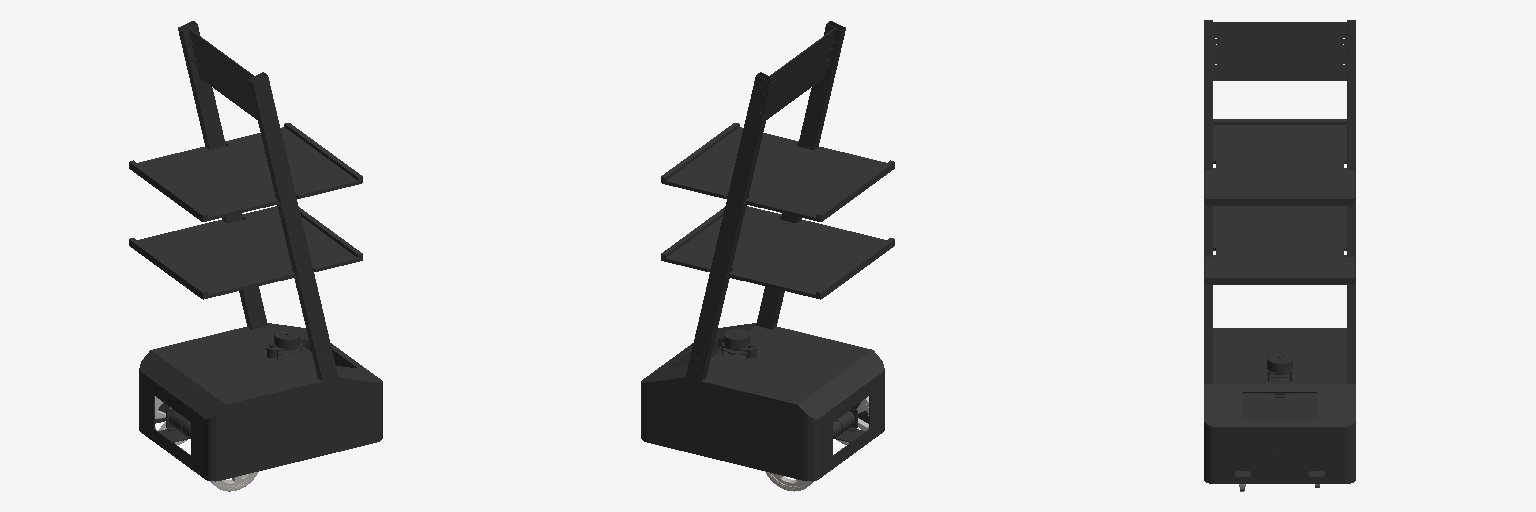
The robot description file, URDF, robot "agv20":
<?xml version="1.0" encoding="utf-8"?>
<!-- This URDF was automatically created by SolidWorks to URDF Exporter! Originally created by [author] ([email redacted]) 
     Commit Version: 1.6.0-4-g7f85cfe  Build Version: 1.6.7995.38578
     For more information, please see http://wiki.ros.org/sw_urdf_exporter -->

<robot

  name="agv20">

  <link 
    name = "world">
  </link>
  
    <joint
      name = "fixed"
      type = "fixed">
      <origin
        xyz="0 0 -0.3"
        rpy="0 0 0"/>
      <parent link = "base_link"/>
      <child link= "world"/>
    </joint>
  

  <link
    name="base_link">
    <inertial>
      <origin
        xyz="-0.031044 0.0010149 0.31459"
        rpy="0 0 0" />
      <mass
        value="9.8608" />
      <inertia
        ixx="0.15321"
        ixy="-1.3195E-06"
        ixz="0.010431"
        iyy="0.19934"
        iyz="2.997E-06"
        izz="0.25801" />
    </inertial>
    <visual>
      <origin
        xyz="0 0 0"
        rpy="0 0 0" />
      <geometry>
        <mesh
          filename="package://agv20/meshes/base_link.STL" />
      </geometry>
      <material
        name="">
        <color
          rgba="0.25098 0.25098 0.25098 1" />
      </material>
    </visual>
    <collision>
      <origin
        xyz="0 0 0"
        rpy="0 0 0" />
      <geometry>
        <mesh
          filename="package://agv20/meshes/base_link.STL" />
      </geometry>
    </collision>
  </link>
  <link
    name="left_wheel">
    <inertial>
      <origin
        xyz="-2.2354E-06 9.754E-06 -0.0095"
        rpy="0 0 0" />
      <mass
        value="2.5857" />
      <inertia
        ixx="0.0060319"
        ixy="-2.9205E-07"
        ixz="1.2931E-11"
        iyy="0.0060331"
        iyz="-3.4505E-11"
        izz="0.011856" />
    </inertial>
    <visual>
      <origin
        xyz="0 0 0"
        rpy="0 0 0" />
      <geometry>
        <mesh
          filename="package://agv20/meshes/left_wheel.STL" />
      </geometry>
      <material
        name="">
        <color
          rgba="0.77647 0.75686 0.73725 1" />
      </material>
    </visual>
    <collision>
      <origin
        xyz="0 0 0"
        rpy="0 0 0" />
      <geometry>
        <mesh
          filename="package://agv20/meshes/left_wheel.STL" />
      </geometry>
    </collision>
  </link>
  <joint
    name="joint_left"
    type="continuous">
    <origin
      xyz="-0.1805 0.175 -0.192"
      rpy="-1.5708 0 0" />
    <parent
      link="base_link" />
    <child
      link="left_wheel" />
    <axis
      xyz="0 0 -1" />
  </joint>
  <link
    name="right_wheel">
    <inertial>
      <origin
        xyz="5.6522E-06 8.2577E-06 0.0095"
        rpy="0 0 0" />
      <mass
        value="2.5857" />
      <inertia
        ixx="0.0060322"
        ixy="6.2762E-07"
        ixz="-1.6588E-11"
        iyy="0.0060327"
        iyz="-3.2903E-11"
        izz="0.011856" />
    </inertial>
    <visual>
      <origin
        xyz="0 0 0"
        rpy="0 0 0" />
      <geometry>
        <mesh
          filename="package://agv20/meshes/right_wheel.STL" />
      </geometry>
      <material
        name="">
        <color
          rgba="0.77647 0.75686 0.73725 1" />
      </material>
    </visual>
    <collision>
      <origin
        xyz="0 0 0"
        rpy="0 0 0" />
      <geometry>
        <mesh
          filename="package://agv20/meshes/right_wheel.STL" />
      </geometry>
    </collision>
  </link>
  <joint
    name="joint_wheel"
    type="continuous">
    <origin
      xyz="-0.180500000000001 -0.172999999999998 -0.191999999999999"
      rpy="-1.5707963267949 0 0" />
    <parent
      link="base_link" />
    <child
      link="right_wheel" />
    <axis
      xyz="0 0 -1" />
  </joint>
  <link
    name="huong_trai">
    <inertial>
      <origin
        xyz="-0.0027511 7.5886E-06 -0.01229"
        rpy="0 0 0" />
      <mass
        value="0.0016393" />
      <inertia
        ixx="1.6895E-07"
        ixy="-4.2673E-11"
        ixz="-3.4979E-08"
        iyy="1.5352E-07"
        iyz="9.6402E-11"
        izz="1.8164E-07" />
    </inertial>
    <visual>
      <origin
        xyz="0 0 0"
        rpy="0 0 0" />
      <geometry>
        <mesh
          filename="package://agv20/meshes/huong_trai.STL" />
      </geometry>
      <material
        name="">
        <color
          rgba="0.68627 0.68627 0.68627 1" />
      </material>
    </visual>
    <collision>
      <origin
        xyz="0 0 0"
        rpy="0 0 0" />
      <geometry>
        <mesh
          filename="package://agv20/meshes/huong_trai.STL" />
      </geometry>
    </collision>
  </link>
  <joint
    name="joint_huong_trai"
    type="continuous">
    <origin
      xyz="0.21687 0.101 -0.222"
      rpy="0 0 0" />
    <parent
      link="base_link" />
    <child
      link="huong_trai" />
    <axis
      xyz="0 0 1" />
  </joint>
  <link
    name="front_trai">
    <inertial>
      <origin
        xyz="2.7718E-12 2.0356E-13 -0.0085"
        rpy="0 0 0" />
      <mass
        value="0.011363" />
      <inertia
        ixx="9.0633E-07"
        ixy="1.8015E-23"
        ixz="-1.34E-22"
        iyy="9.0633E-07"
        iyz="3.9884E-22"
        izz="1.432E-06" />
    </inertial>
    <visual>
      <origin
        xyz="0 0 0"
        rpy="0 0 0" />
      <geometry>
        <mesh
          filename="package://agv20/meshes/front_trai.STL" />
      </geometry>
      <material
        name="">
        <color
          rgba="0.49804 0.49804 0.49804 1" />
      </material>
    </visual>
    <collision>
      <origin
        xyz="0 0 0"
        rpy="0 0 0" />
      <geometry>
        <mesh
          filename="package://agv20/meshes/front_trai.STL" />
      </geometry>
    </collision>
  </link>
  <joint
    name="joitn_fron"
    type="continuous">
    <origin
      xyz="-0.010023 -0.0084724 -0.026"
      rpy="1.5708 0 -0.0027583" />
    <parent
      link="huong_trai" />
    <child
      link="front_trai" />
    <axis
      xyz="0 0 1" />
  </joint>
  <link
    name="huong_phai">
    <inertial>
      <origin
        xyz="0.002751 3.123E-05 -0.01229"
        rpy="0 0 0" />
      <mass
        value="0.0016393" />
      <inertia
        ixx="1.6895E-07"
        ixy="1.7501E-10"
        ixz="3.4977E-08"
        iyy="1.5352E-07"
        iyz="3.9715E-10"
        izz="1.8164E-07" />
    </inertial>
    <visual>
      <origin
        xyz="0 0 0"
        rpy="0 0 0" />
      <geometry>
        <mesh
          filename="package://agv20/meshes/huong_phai.STL" />
      </geometry>
      <material
        name="">
        <color
          rgba="0.68627 0.68627 0.68627 1" />
      </material>
    </visual>
    <collision>
      <origin
        xyz="0 0 0"
        rpy="0 0 0" />
      <geometry>
        <mesh
          filename="package://agv20/meshes/huong_phai.STL" />
      </geometry>
    </collision>
  </link>
  <joint
    name="joint_huong_phai"
    type="continuous">
    <origin
      xyz="0.21687 -0.099 -0.222"
      rpy="0 0 0" />
    <parent
      link="base_link" />
    <child
      link="huong_phai" />
    <axis
      xyz="0 0 1" />
  </joint>
  <link
    name="front_phai">
    <inertial>
      <origin
        xyz="-2.7756E-17 -2.7756E-17 -0.0085"
        rpy="0 0 0" />
      <mass
        value="0.011363" />
      <inertia
        ixx="9.0633E-07"
        ixy="3.1073E-23"
        ixz="1.5137E-22"
        iyy="9.0633E-07"
        iyz="1.5523E-22"
        izz="1.432E-06" />
    </inertial>
    <visual>
      <origin
        xyz="0 0 0"
        rpy="0 0 0" />
      <geometry>
        <mesh
          filename="package://agv20/meshes/front_phai.STL" />
      </geometry>
      <material
        name="">
        <color
          rgba="0.49804 0.49804 0.49804 1" />
      </material>
    </visual>
    <collision>
      <origin
        xyz="0 0 0"
        rpy="0 0 0" />
      <geometry>
        <mesh
          filename="package://agv20/meshes/front_phai.STL" />
      </geometry>
    </collision>
  </link>
  <joint
    name="joint_phai"
    type="continuous">
    <origin
      xyz="0.0099029 0.008613 -0.026"
      rpy="1.5708 0 -3.1302" />
    <parent
      link="huong_phai" />
    <child
      link="front_phai" />
    <axis
      xyz="0 0 1" />
  </joint>
  <!-- lidar scan-->
    <joint name="hokuyo_joint" type="fixed">
    <axis xyz="0 1 0" />
    <origin xyz="0.08 0 0.095" rpy="0 0 0"/>
    <parent link="base_link"/>
    <child link="hokuyo_link"/>
  </joint>

  <!-- Hokuyo Laser -->
  <link name="hokuyo_link">
    <collision>
      <origin xyz="0 0 0" rpy="0 0 0"/>
      <geometry>
    <box size="0.1 0.1 0.1"/>
      </geometry>
    </collision>

    <visual>
      <origin xyz="0 0 0" rpy="0 0 0"/>
      <geometry>
        <mesh filename="package://rrbot_description/meshes/hokuyo.dae"/>
      </geometry>
    </visual>

    <inertial>
      <mass value="1e-5" />
      <origin xyz="0 0 0" rpy="0 0 0"/>
      <inertia ixx="1e-6" ixy="0" ixz="0" iyy="1e-6" iyz="0" izz="1e-6" />
    </inertial>
  </link>

<!-- hokuyo -->
  <gazebo reference="hokuyo_link">
    <sensor type="ray" name="head_hokuyo_sensor">
      <pose>0.01 0 0.03 0 -0 0</pose>
      <visualize>true</visualize>
      <update_rate>40</update_rate>
      <ray>
        <scan>
          <horizontal>
            <samples>640</samples>
            <resolution>1</resolution>
            <min_angle>-3.141592</min_angle>
            <max_angle>3.141592</max_angle>
          </horizontal>
        </scan>
        <range>
          <min>0.3</min>
          <max>12.0</max>
          <resolution>0.01</resolution>
        </range>
        <noise>
          <type>gaussian</type>
          <!--Noise parameters based on published spec for Hokuyo laser
               achieving "+-30mm" accuracy at range < 10m.  A mean of 0.0m and
               stddev of 0.01m will put 99.7% of samples within 0.03m of the true
               reading. --> 
          <mean>0.0</mean>
          <stddev>0.01</stddev>
        </noise>
      </ray>
      <plugin name="gazebo_ros_head_hokuyo_controller" filename="libgazebo_ros_laser.so">
         <always_on>1</always_on>
        <update_rate>30</update_rate>
        <visualize>true</visualize>
        <topicName>/scan</topicName>
        <frameName>hokuyo_link</frameName>
      </plugin>
    </sensor>
  </gazebo> 

  <!--diff  driver plugin -->
  <gazebo>
      <plugin name="gazebo_ros_control" filename="libgazebo_ros_control.so">
        <robotNamespace>/</robotNamespace>
        <controlPeriod>0.001</controlPeriod>
        <legacyModeNS>false</legacyModeNS>
      </plugin>
    </gazebo>
  <!--######################################################################-->
  <gazebo>
      <plugin name="diff_drive_controller" filename="libgazebo_ros_diff_drive.so">
        <legacyMode>false</legacyMode>
        <alwaysOn>true</alwaysOn>
        <updateRate>1000.0</updateRate>
        <leftJoint>left_wheel</leftJoint>
        <rightJoint>joint_wheel</rightJoint>
        <wheelSeparation>0.5</wheelSeparation>
        <wheelDiameter>0.2</wheelDiameter>
        <wheelTorque>10</wheelTorque>
        <publishTf>1</publishTf>
        <odometryFrame>map</odometryFrame>
        <commandTopic>cmd_vel</commandTopic>
        <odometryTopic>odom</odometryTopic>
        <robotBaseFrame>base_link</robotBaseFrame>
        <wheelAcceleration>2.8</wheelAcceleration>
        <publishWheelJointState>true</publishWheelJointState>
        <publishWheelTF>false</publishWheelTF>
        <odometrySource>world</odometrySource>
        <rosDebugLevel>Debug</rosDebugLevel>
      </plugin>
  </gazebo>
  <!--######################################################################-->
  <gazebo reference="right_wheel">
  <mu1 value="1.0"/>
  <mu2 value="1.0"/>
  <kp value="10000000.0" />
  <kd value="1.0" />
  <fdir1 value="1 0 0"/>
  </gazebo>

  <gazebo reference="left_wheel">
  <mu1 value="1.0"/>
  <mu2 value="1.0"/>
  <kp value="10000000.0" />
  <kd value="1.0" />
  <fdir1 value="1 0 0"/>
  </gazebo>
  <!--######################################################################-->
  <transmission name="left_wheel_trans" type="SimpleTransmission">
    <type>transmission_interface/SimpleTransmission</type>
    <actuator name="left_wheel_motor">
    <hardwareInterface>hardware_interface/VelocityJointInterface</hardwareInterface>
    <mechanicalReduction>1</mechanicalReduction>
    </actuator>
    <joint name="joint_left">
    <hardwareInterface>hardware_interface/VelocityJointInterface</hardwareInterface>
    </joint>
  </transmission>

  <transmission name="right_wheel_trans" type="SimpleTransmission">
    <type>transmission_interface/SimpleTransmission</type>
    <actuator name="right_wheel_motor">
    <hardwareInterface>hardware_interface/VelocityJointInterface</hardwareInterface>
    <mechanicalReduction>1</mechanicalReduction>
    </actuator>
    <joint name="joint_wheel">
    <hardwareInterface>hardware_interface/VelocityJointInterface</hardwareInterface>
    </joint>
  </transmission>
 
  
</robot>

--- What the picture shows (computed from the rendered views, not written in the file) ---
3 views of the same robot in one strip: view 1: azimuth 30°, elevation 25°; view 2: azimuth 150°, elevation 25°; view 3: azimuth 270°, elevation 25° (orthographic).
Robot: agv20 — 9 links, 8 joints (6 continuous, 2 fixed); root link base_link; default pose: every joint at zero.
Visible links, largest first — view 1: base_link; view 2: base_link; view 3: base_link.
Boxes of the visible links, x1,y1,x2,y2 form: base_link: (129,21,382,481); base_link: (641,21,894,480); base_link: (1204,20,1355,483).
Bounding box of the posed robot: 0.572 × 0.405 × 1.23 m (x, y, z).
Meshes: 8 distinct files referenced, 7 mesh visuals loaded (7 binary STL); not drawn: 1 (reference not matched to a file when rendering).
